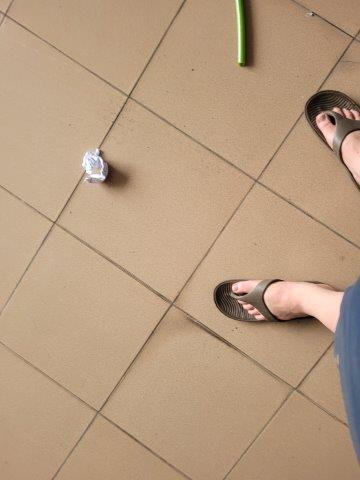kertas: (82, 149, 108, 184)
